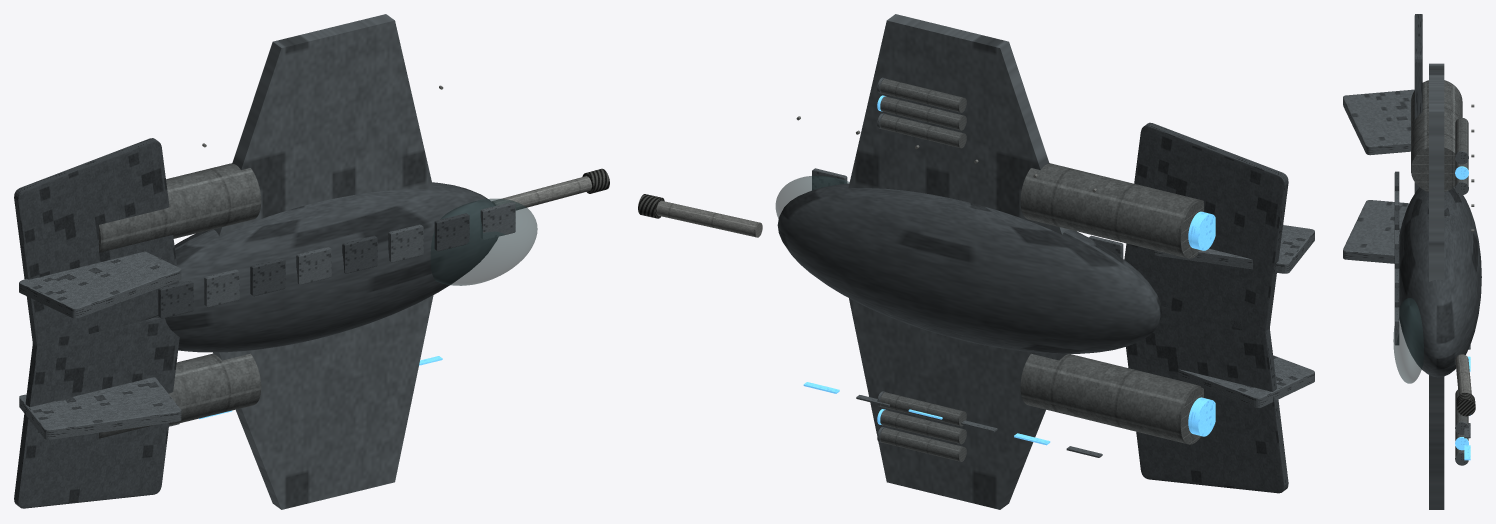
Rendered from s-u24-specter-light-gunship-lod0.glb.
3 renders of one model, left to right at view 1: azimuth 30°, elevation 25°; view 2: azimuth 150°, elevation 25°; view 3: azimuth 270°, elevation 25°, orthographic. The views are drawn at different scales.
Visible parts, largest first — view 1: combat_main_wing, combat_fuselage, combat_tailplane_-1, combat_tailplane_1, combat_engine_1, combat_fin_-1, combat_fin_1, combat_canopy, combat_engine_0, combat_gun_barrel_0, airframe_panel_1, airframe_panel_2 (+6 smaller); view 2: combat_main_wing, combat_fuselage, combat_tailplane_1, combat_tailplane_-1, combat_engine_1, combat_engine_0, combat_fin_-1, combat_fin_1, combat_gun_barrel_0, combat_1_tube_3, combat_1_tube_2, combat_-1_tube_1 (+6 smaller); view 3: combat_fuselage, combat_main_wing, combat_fin_1, combat_engine_1, combat_fin_-1, combat_canopy, combat_tailplane_1, combat_gun_barrel_0, combat_1_tube_3, combat_gun_muzzle_0, airframe_panel_7, combat_-1_tube_3.
Part boxes in pixels (x1,y1,x2,y2): combat_main_wing: [213, 14, 433, 509]; combat_fuselage: [154, 182, 498, 352]; combat_tailplane_-1: [14, 317, 179, 508]; combat_tailplane_1: [14, 138, 179, 346]; combat_engine_1: [99, 163, 261, 252]; combat_fin_-1: [19, 377, 181, 439]; combat_fin_1: [19, 251, 181, 318]; combat_canopy: [430, 198, 537, 285]; combat_engine_0: [99, 353, 261, 438]; combat_gun_barrel_0: [492, 176, 591, 210]; airframe_panel_1: [204, 269, 239, 307]; airframe_panel_2: [250, 258, 285, 296]; combat_main_wing: [848, 14, 1068, 509]; combat_fuselage: [777, 183, 1161, 353]; combat_tailplane_1: [1124, 122, 1288, 335]; combat_tailplane_-1: [1126, 306, 1288, 493]; combat_engine_1: [1020, 163, 1203, 258]; combat_engine_0: [1020, 353, 1203, 444]; combat_fin_-1: [1178, 355, 1314, 407]; combat_fin_1: [1152, 225, 1314, 273]; combat_gun_barrel_0: [656, 200, 762, 237]; combat_1_tube_3: [880, 78, 966, 112]; combat_1_tube_2: [880, 96, 966, 130]; combat_-1_tube_1: [880, 427, 966, 461]; combat_fuselage: [1399, 186, 1481, 377]; combat_main_wing: [1429, 63, 1444, 509]; combat_fin_1: [1343, 89, 1414, 155]; combat_engine_1: [1411, 80, 1462, 191]; combat_fin_-1: [1343, 200, 1409, 263]; combat_canopy: [1393, 298, 1423, 383]; combat_tailplane_1: [1414, 14, 1422, 193]; combat_gun_barrel_0: [1455, 354, 1471, 395]; combat_1_tube_3: [1455, 118, 1468, 154]; combat_gun_muzzle_0: [1456, 392, 1475, 416]; airframe_panel_7: [1394, 307, 1399, 345]; combat_-1_tube_3: [1455, 390, 1468, 425].
Size of what is drawn, in the model's own units: 12.12 by 8.68 by 2.74.
7 materials, 7 textured.
